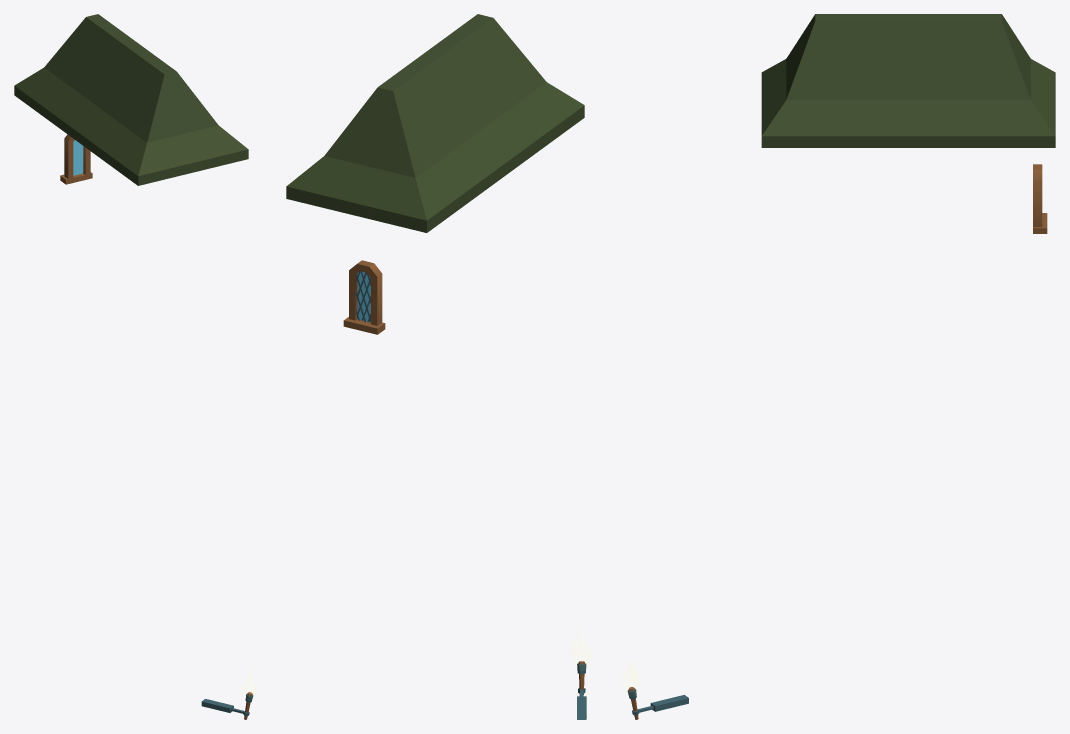
3 renders of one model, left to right at view 1: azimuth 30°, elevation 25°; view 2: azimuth 150°, elevation 25°; view 3: azimuth 270°, elevation 25°, orthographic. The views are drawn at different scales.
Visible parts, largest first — view 1: Object207_roof1_0, Plane447_brown_0, Cylinder1708_metal_0; view 2: Object207_roof1_0, Plane447_brown_0; view 3: Object207_roof1_0.
Boxes of the visible parts, left/top/right/bottom form: Object207_roof1_0: left=14, top=14, right=248, bottom=185; Plane447_brown_0: left=64, top=134, right=90, bottom=179; Cylinder1708_metal_0: left=201, top=694, right=253, bottom=716; Object207_roof1_0: left=286, top=14, right=584, bottom=232; Plane447_brown_0: left=349, top=260, right=382, bottom=325; Object207_roof1_0: left=761, top=14, right=1055, bottom=147.
Size of the model in its own units: 334 by 1711 by 959.
